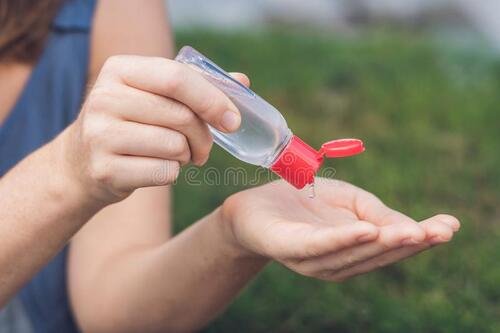handsanitizer: (173, 48, 366, 186)
